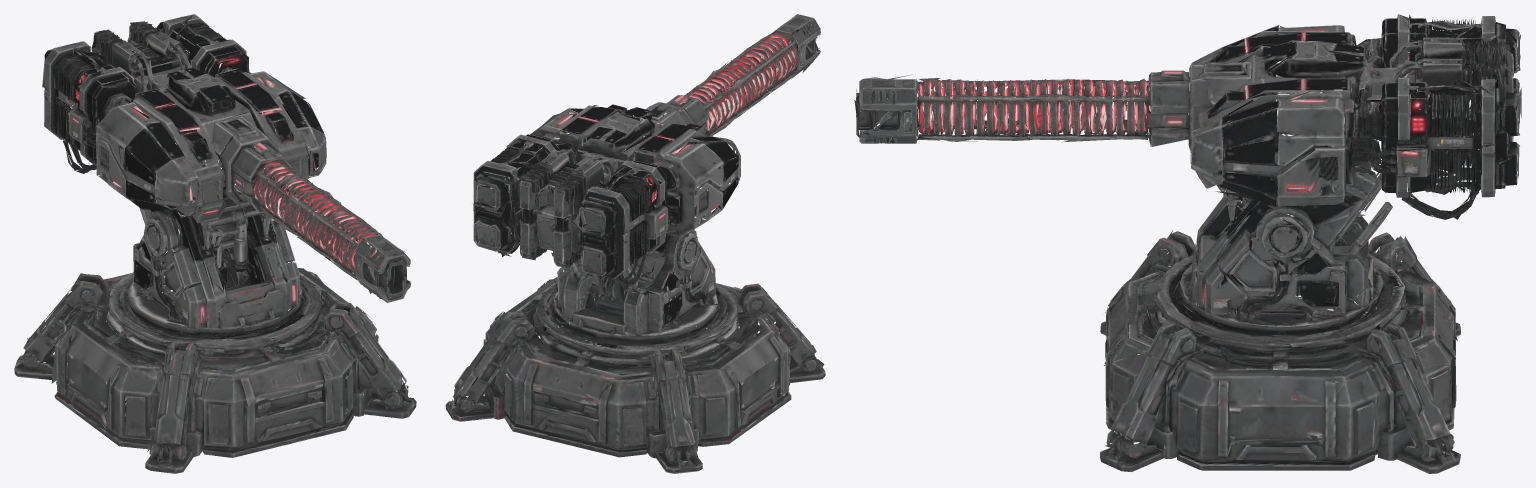
Rendered from tower_rail_t5.glb.
3 renders of one model, left to right at view 1: azimuth 30°, elevation 25°; view 2: azimuth 150°, elevation 25°; view 3: azimuth 270°, elevation 25°, orthographic. The views are drawn at different scales.
Visible parts, largest first — view 1: base, head; view 2: base, head; view 3: head, base.
Part boxes in pixels (x1,y1,x2,y2): base: (14, 225, 416, 473); head: (42, 14, 411, 302); base: (445, 252, 825, 473); head: (472, 14, 820, 293); head: (854, 14, 1521, 266); base: (1100, 201, 1460, 473).
Bounding box in the file's own units: 0.848 × 0.9035 × 1.56.
1 material, 1 textured.
